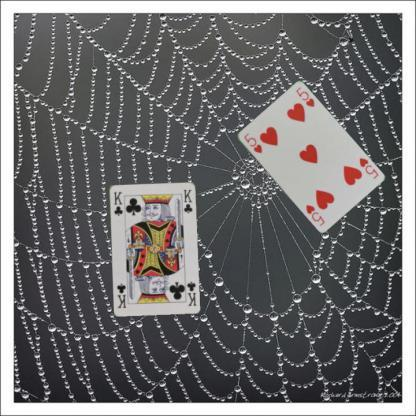5h: (356, 156, 379, 180), (241, 130, 263, 154)
Kc: (112, 189, 124, 217), (184, 280, 196, 307)
